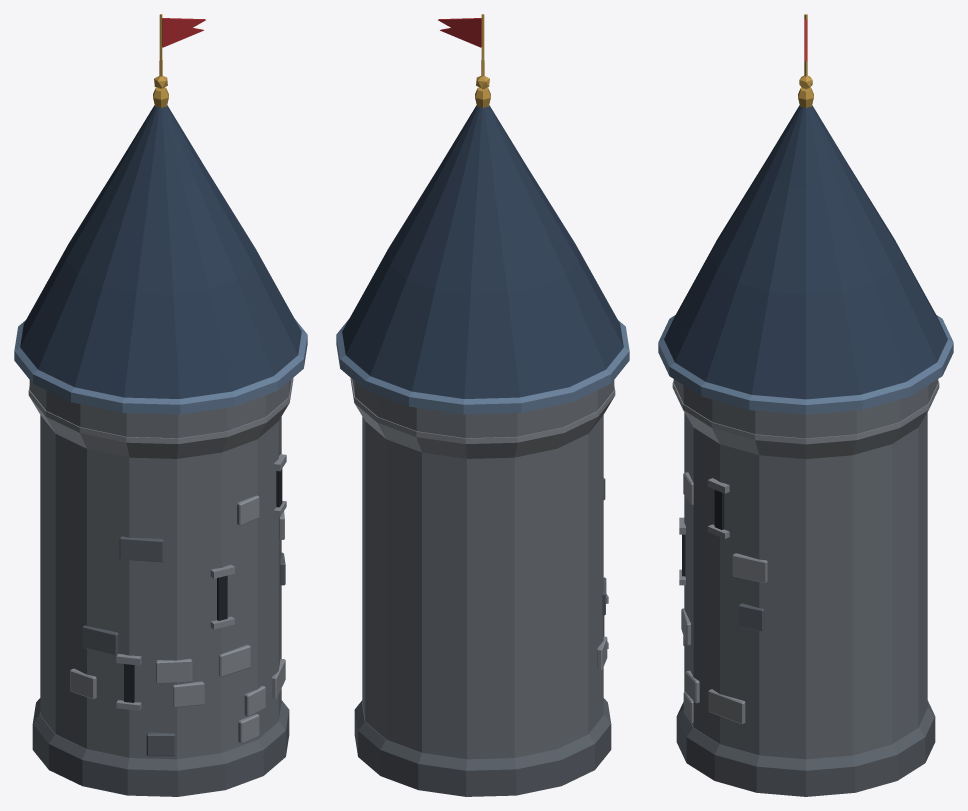
The model's file is Castle_TowerRoof.fbx.
The picture shows the model from 3 angles, left to right: view 1: azimuth 30°, elevation 25°; view 2: azimuth 150°, elevation 25°; view 3: azimuth 270°, elevation 25°; orthographic projection.
Parts seen in each view (by area): view 1: Wall, Roof, Base, Trim, RoofTrim, Dark, Pennant, Finial; view 2: Wall, Roof, Base, Trim, RoofTrim, Pennant, Finial; view 3: Wall, Roof, Base, Trim, RoofTrim, Finial, Dark.
Boxes of the visible parts, x1,y1,x2,y2 form: Wall: (29,379,291,759); Roof: (20,105,301,398); Base: (32,536,289,796); Trim: (28,378,293,743); RoofTrim: (14,319,307,414); Dark: (124,469,282,702); Pennant: (162,18,205,47); Finial: (153,14,168,108); Wall: (352,379,614,759); Roof: (342,105,623,398); Base: (354,478,611,796); Trim: (350,378,615,670); RoofTrim: (336,319,629,414); Pennant: (438,18,481,47); Finial: (475,14,490,108); Wall: (673,379,938,759); Roof: (664,105,947,399); Base: (676,603,935,796); Trim: (672,381,939,724); RoofTrim: (658,315,953,414); Finial: (798,14,813,108); Dark: (682,490,724,576).
Size of the model in its own units: 9.72 by 26.4 by 9.72.
